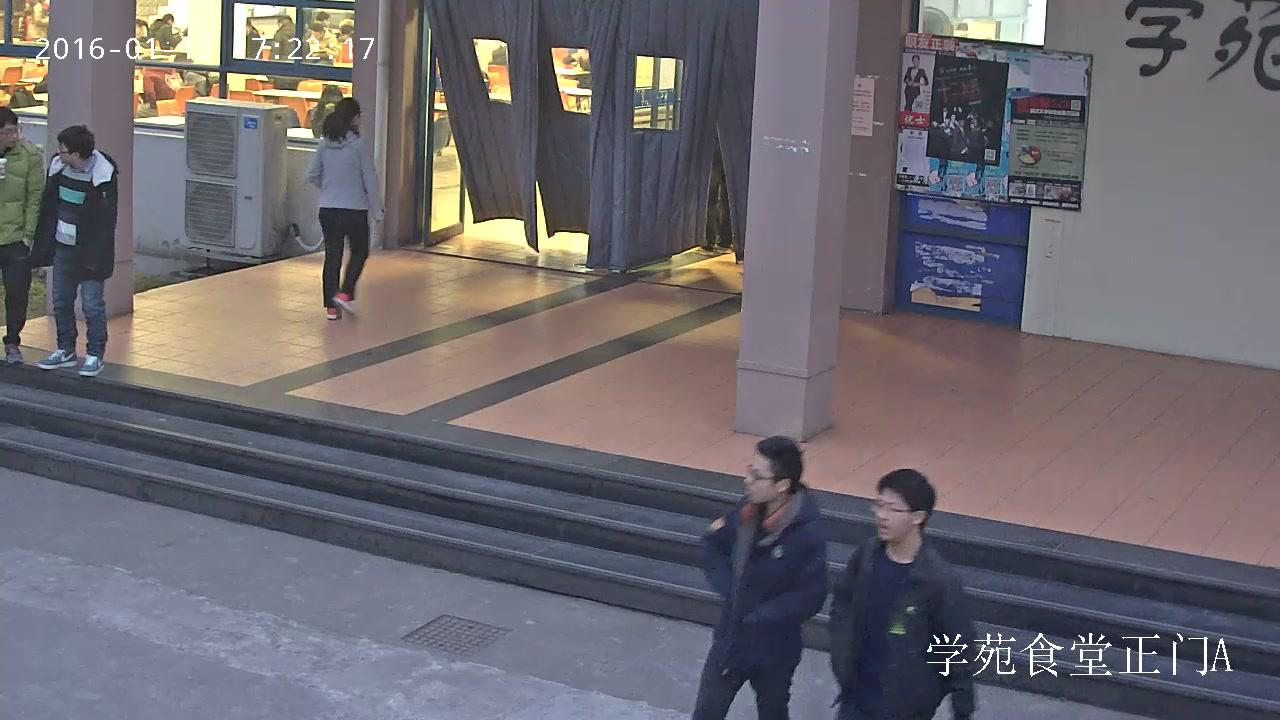person: (689, 435, 828, 720), (828, 467, 977, 720), (27, 122, 118, 378), (307, 97, 383, 320), (0, 105, 45, 363), (702, 157, 733, 250), (268, 16, 301, 91), (305, 21, 338, 65), (902, 55, 928, 110), (147, 14, 181, 50)
